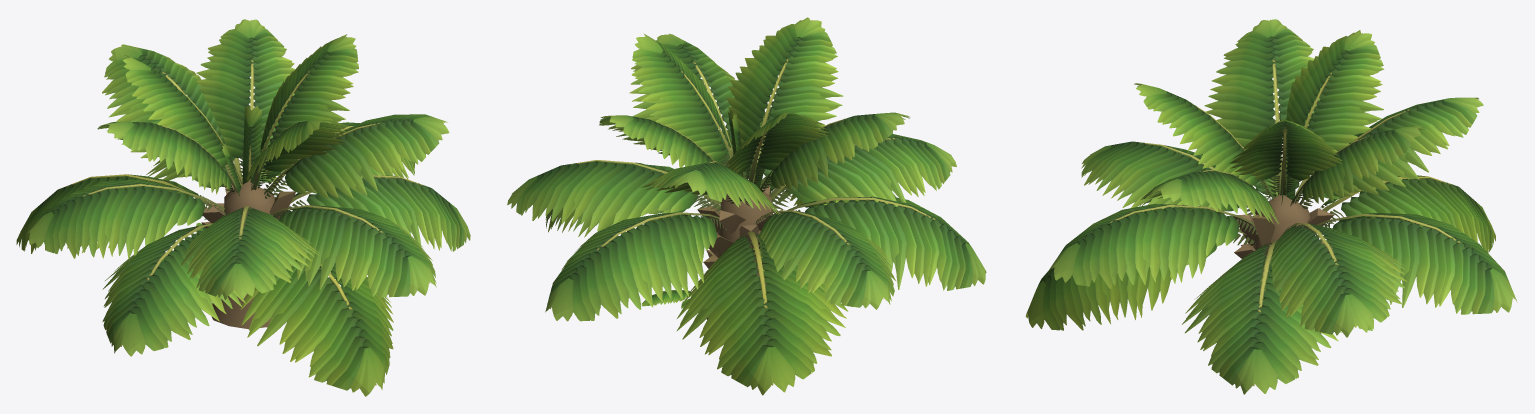
Rendered from sawit_2.glb.
3 renders of one model, left to right at view 1: azimuth 30°, elevation 25°; view 2: azimuth 150°, elevation 25°; view 3: azimuth 270°, elevation 25°, orthographic. The views are drawn at different scales.
Parts seen in each view (by area): view 1: sawit_2_body; view 2: sawit_2_body; view 3: sawit_2_body.
Boxes of the visible parts, left/top/right/bottom form: sawit_2_body: left=16, top=19, right=470, bottom=396; sawit_2_body: left=507, top=17, right=986, bottom=395; sawit_2_body: left=1025, top=19, right=1517, bottom=394.
Bounding box in the file's own units: 3.32 × 2.03 × 3.49.
Materials: 2 (1 with a texture image).
